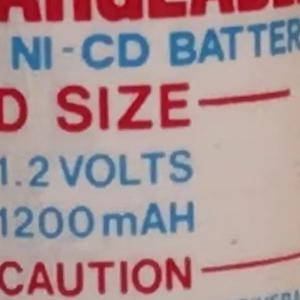keyword: (2, 23, 159, 101)
